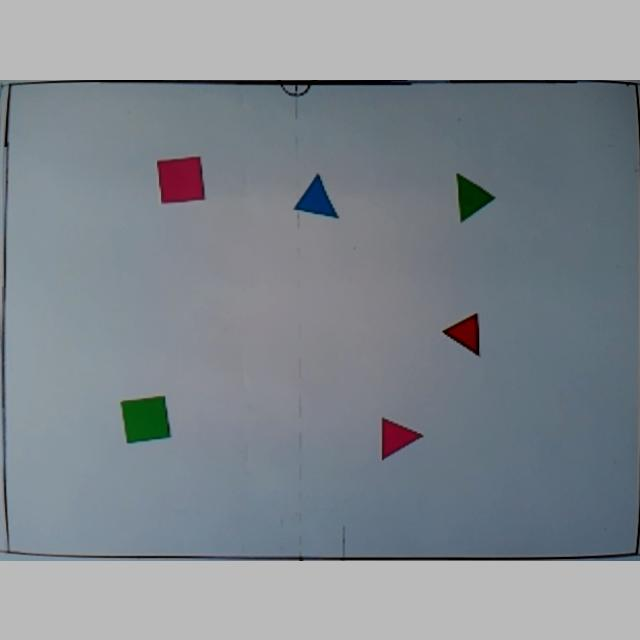blueTriangle: (293, 171, 341, 219)
greenSquare: (120, 392, 172, 446)
greenTriangle: (456, 170, 496, 222)
pinkSquare: (156, 156, 210, 202)
pinkTriangle: (381, 414, 425, 460)
redTriangle: (441, 310, 482, 360)
